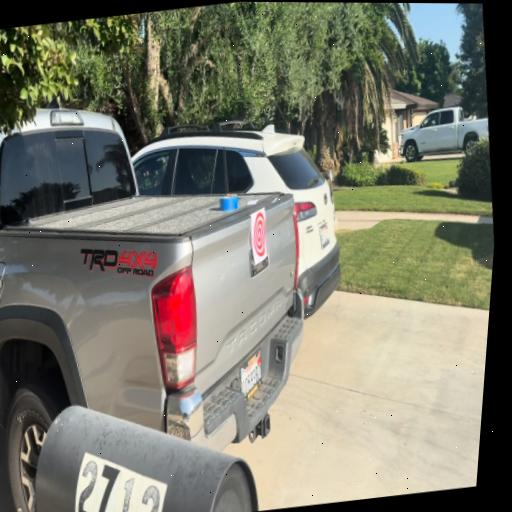bullseye: (251, 207, 268, 265)
